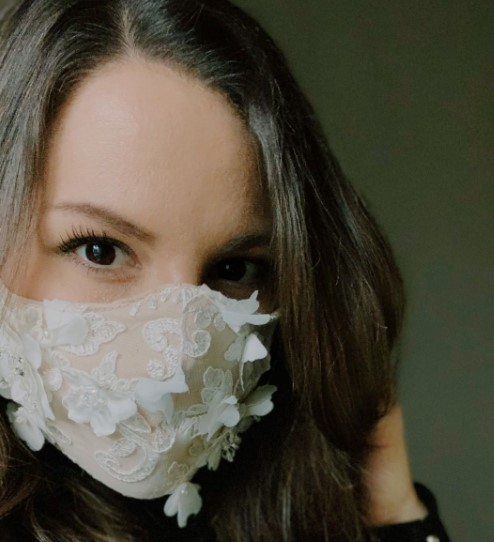face_with_mask: (0, 1, 298, 506)
